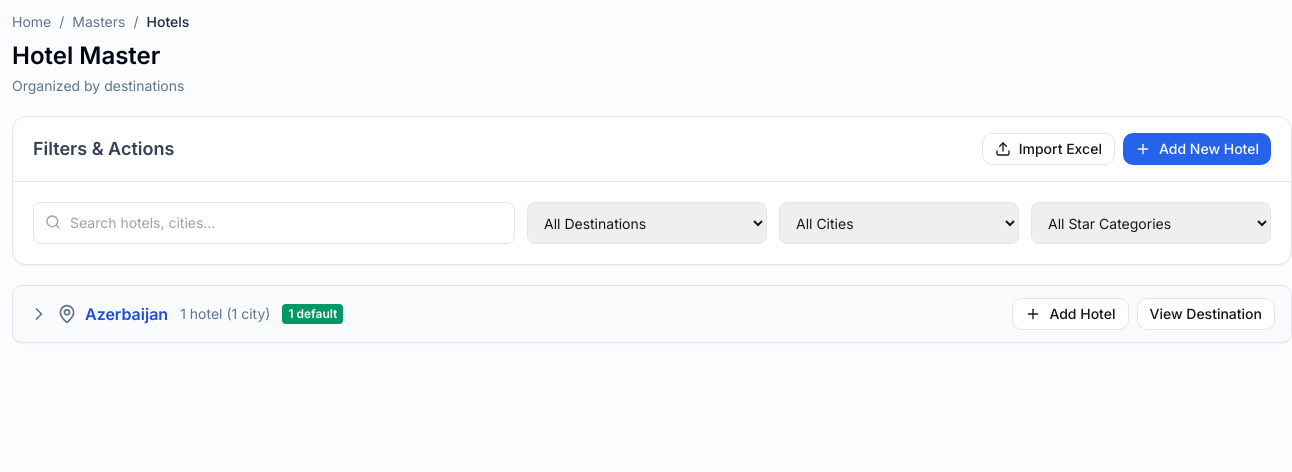
Scenario: Phase 13B master pages › renders the hotel list with the default badge and archive action
Click the button "Azerbaijan".
click(99, 314)  # box [29,302,168,326]
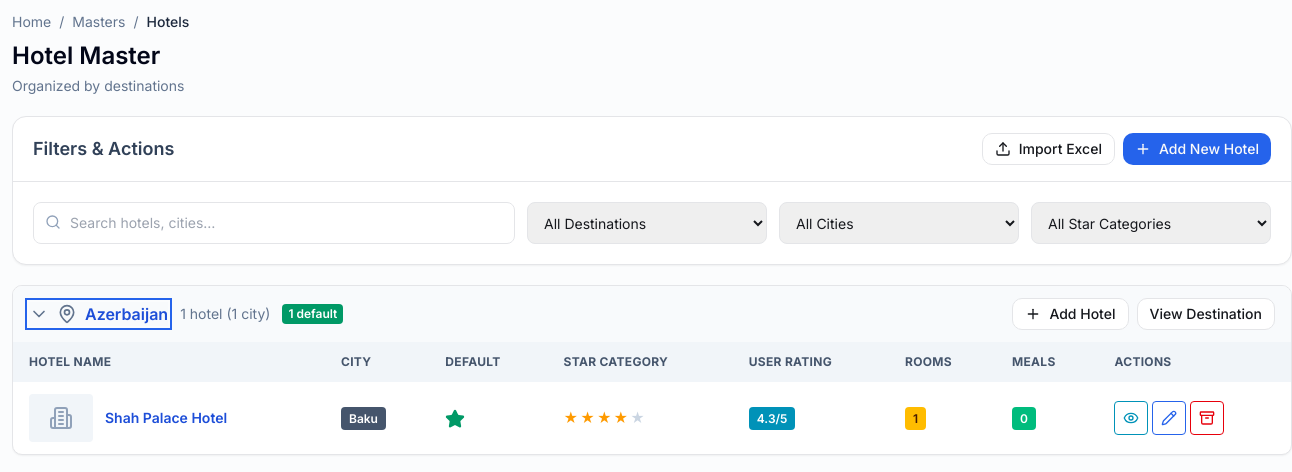
Now the text "Shah Palace Hotel" is shown, box [105,408,227,428]
Now the column heading "Default" is shown, box [429,342,548,382]
Now the button named "Archive Shah Palace Hotel" is shown, box [1190,401,1224,435]
